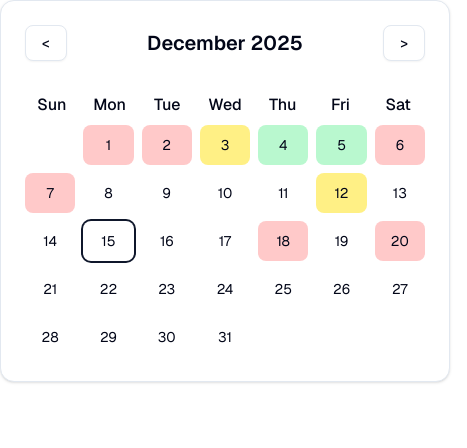
Test case: CalendarMonthView › navigates to the previous month
This screenshot has width=467, height=448.
Click the button "<". click: (46, 43)
box: [25, 25, 67, 61]
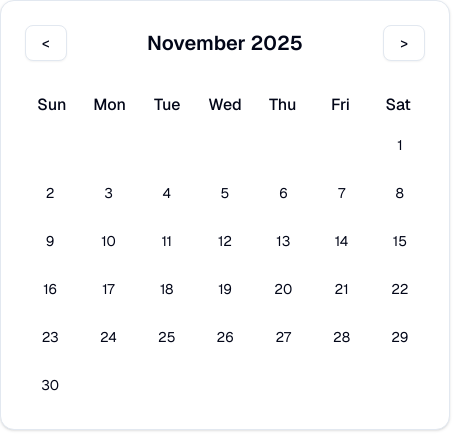
Now the text "November 2025" is shown, box [147, 29, 303, 57]
